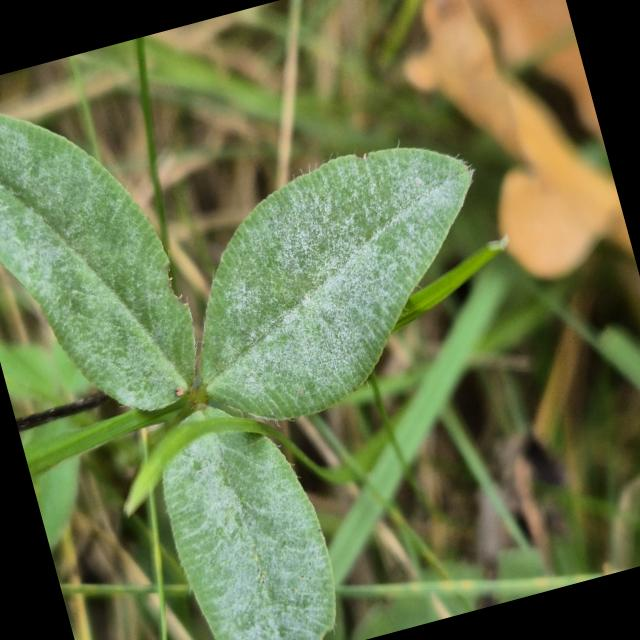powdery_mildew: (201, 147, 470, 419), (0, 114, 195, 409), (163, 432, 335, 640)
